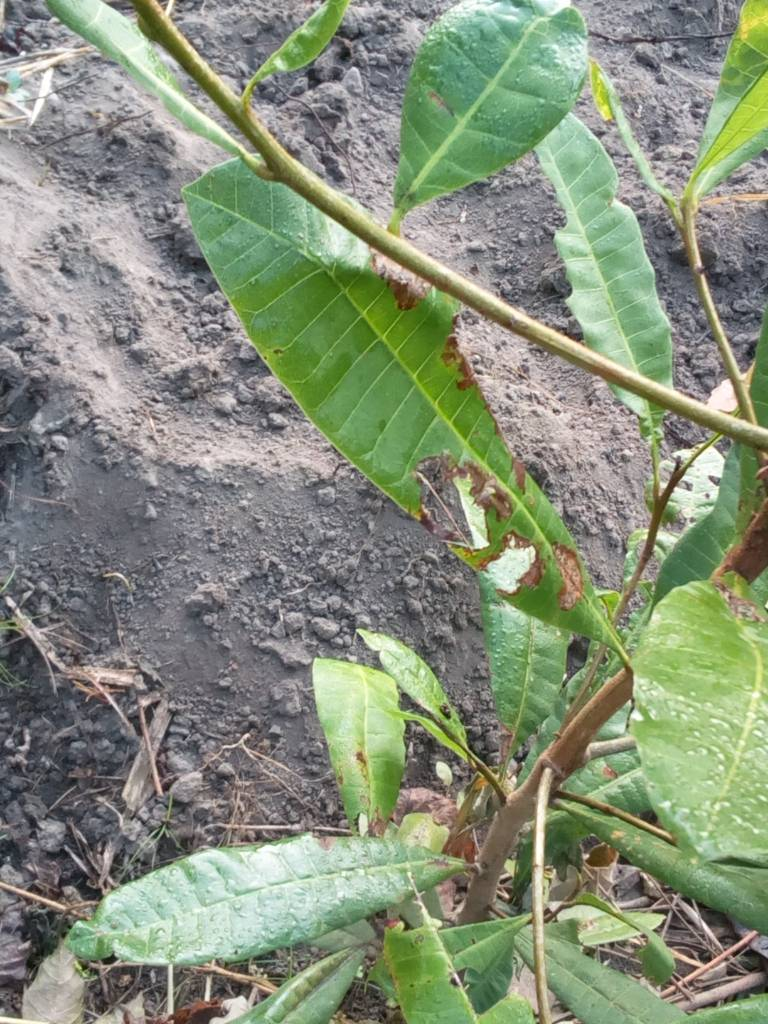Dysdercus wolkerii: (182, 153, 641, 655)
